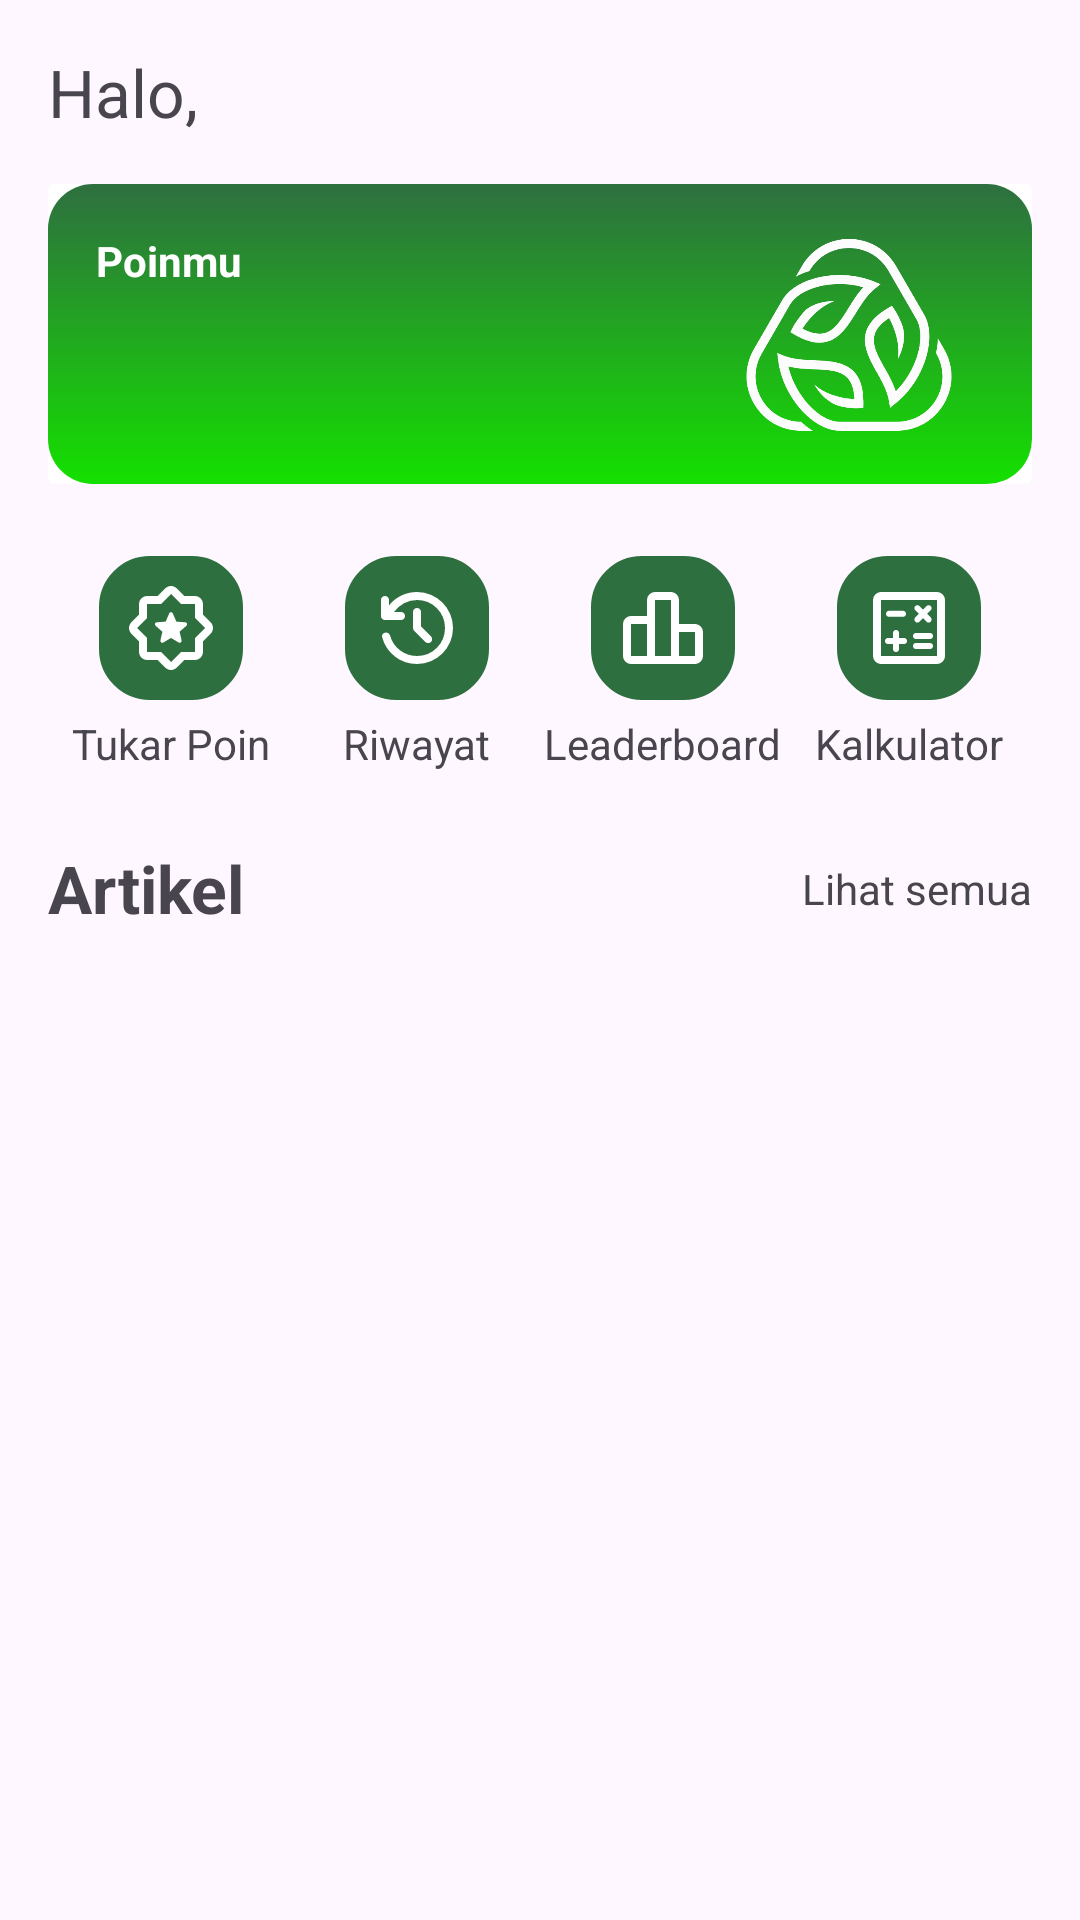

Icons on this 1080*1920 Android screen, each with the point to tap as [x,y]:
award star: [171,628]
